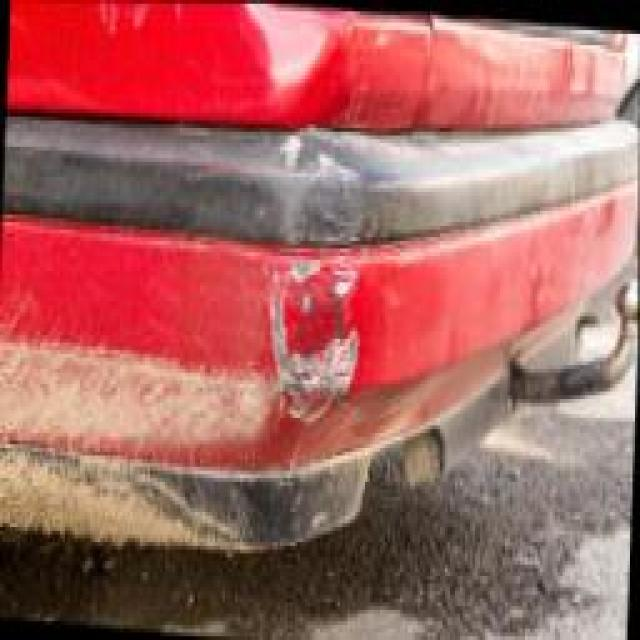Bumper: (0, 90, 417, 557)
